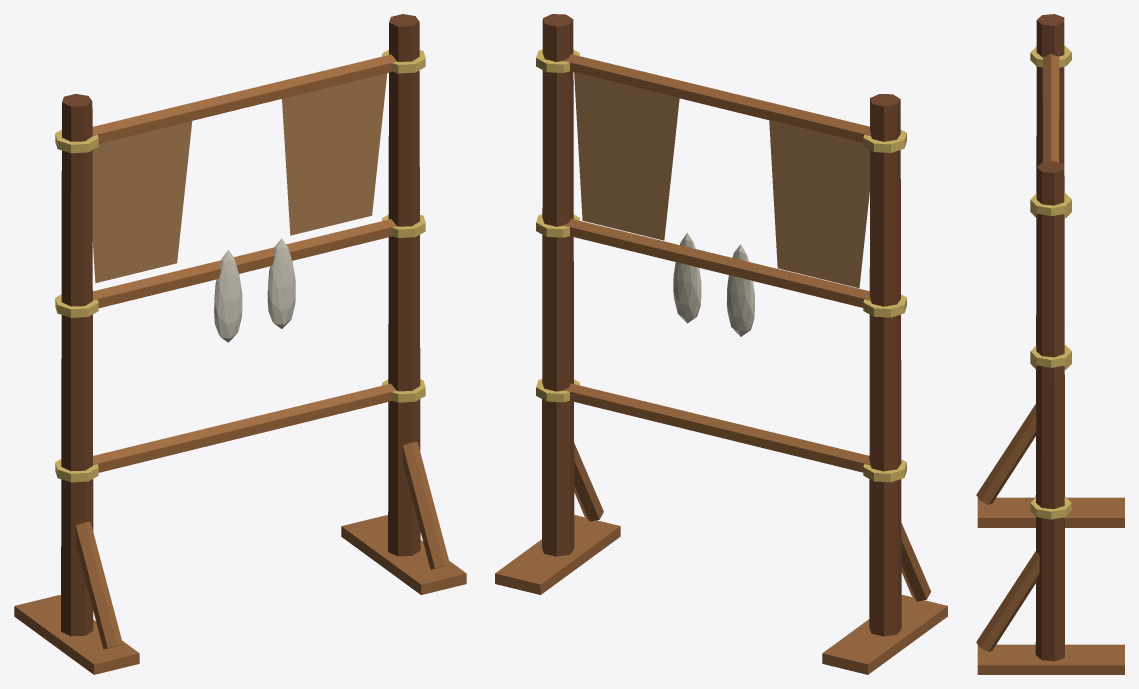
Rendered from rack_drying.glb.
The picture shows the model from 3 angles, left to right: view 1: azimuth 30°, elevation 25°; view 2: azimuth 150°, elevation 25°; view 3: azimuth 270°, elevation 25°; orthographic projection. The views are drawn at different scales.
Parts seen in each view (by area): view 1: rack_drying.001; view 2: rack_drying.001; view 3: rack_drying.001.
Boxes of the visible parts, <box> form: rack_drying.001: <box>14,14,466,674</box>; rack_drying.001: <box>495,14,947,674</box>; rack_drying.001: <box>976,14,1124,674</box>.
Size of the model in its own units: 1.21 by 1.68 by 0.455.
